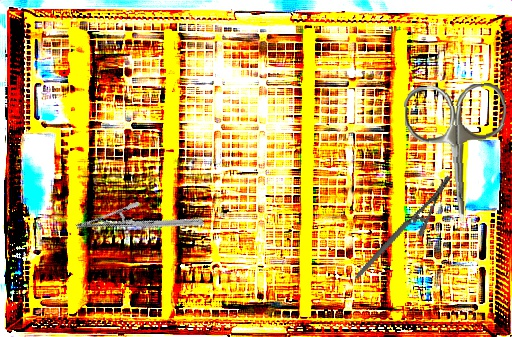Iris Scissors: (403, 82, 512, 225)
Needle Holder: (332, 172, 474, 281), (74, 167, 205, 281)
